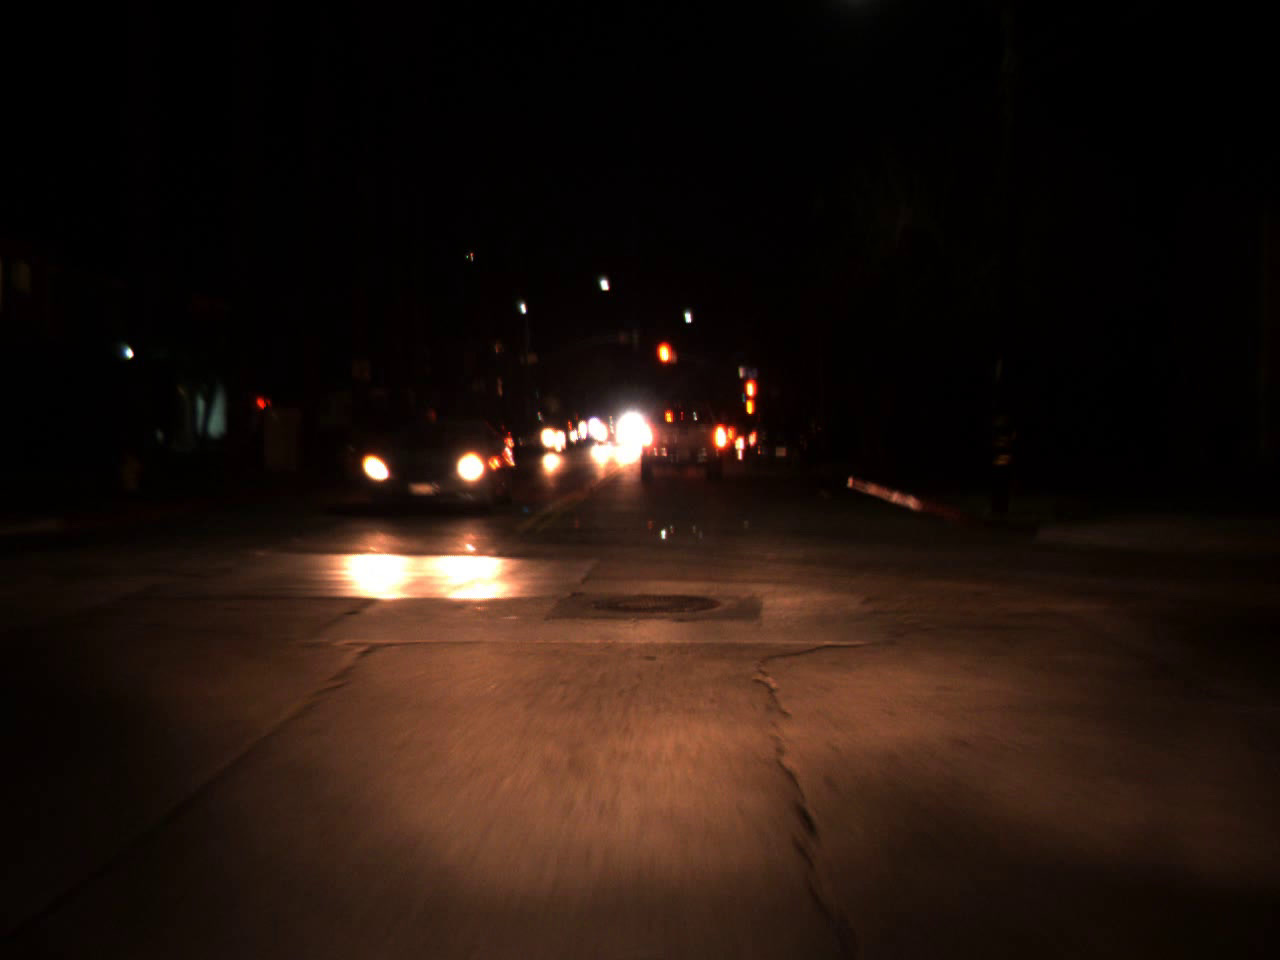stop: (654, 338, 675, 389), (744, 378, 756, 415)
